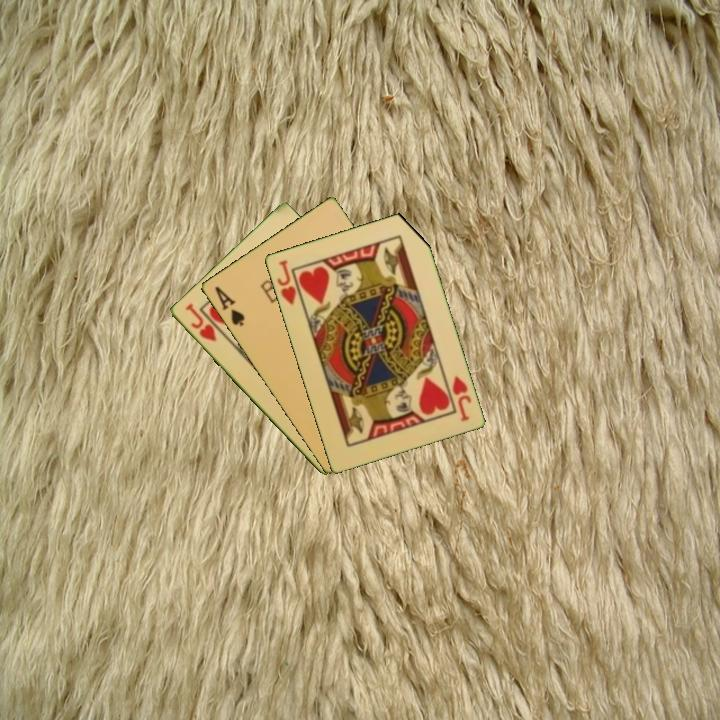As: (211, 282, 247, 329)
Jh: (273, 256, 306, 309), (181, 300, 219, 345), (448, 372, 474, 424)
